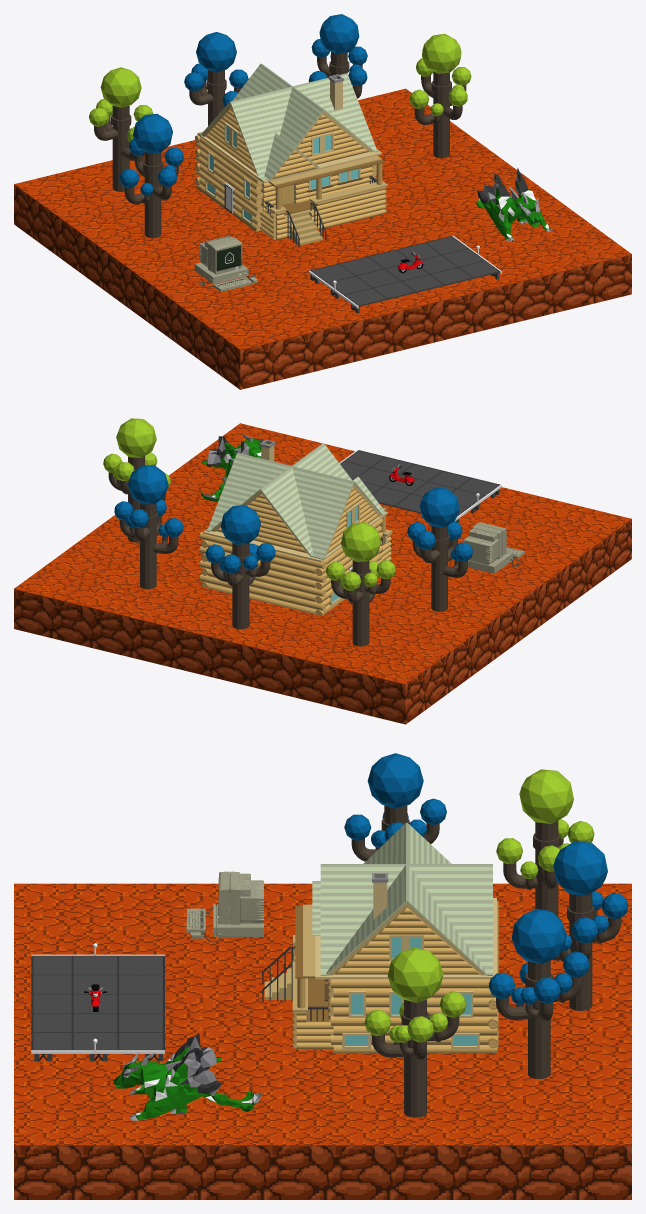
3 views of the same model, one above another, from view 1: azimuth 30°, elevation 25°; view 2: azimuth 150°, elevation 25°; view 3: azimuth 270°, elevation 25° (orthographic). The views are drawn at different scales.
Parts seen in each view (by area): view 1: Cube.001, Cube.1516, ANIMAL_DRAGON, OBJRANDOM_RETRO_PC; view 2: Cube.001, Cube.1516, OBJRANDOM_RETRO_PC, ANIMAL_DRAGON; view 3: Cube.001, Cube.1516, ANIMAL_DRAGON, OBJRANDOM_RETRO_PC.
Boxes of the visible parts, x1,y1,x2,y2 form: Cube.001: (14, 14, 631, 389); Cube.1516: (195, 63, 387, 246); ANIMAL_DRAGON: (476, 168, 552, 241); OBJRANDOM_RETRO_PC: (194, 235, 257, 291); Cube.001: (14, 418, 631, 724); Cube.1516: (199, 439, 392, 615); OBJRANDOM_RETRO_PC: (463, 522, 524, 573); ANIMAL_DRAGON: (201, 434, 263, 502); Cube.001: (14, 753, 631, 1199); Cube.1516: (262, 823, 498, 1052); ANIMAL_DRAGON: (113, 1033, 262, 1120); OBJRANDOM_RETRO_PC: (186, 871, 263, 942).
Size of the model in its own units: 4000 by 1816 by 4000.
Materials: 38 (5 with a texture image).
